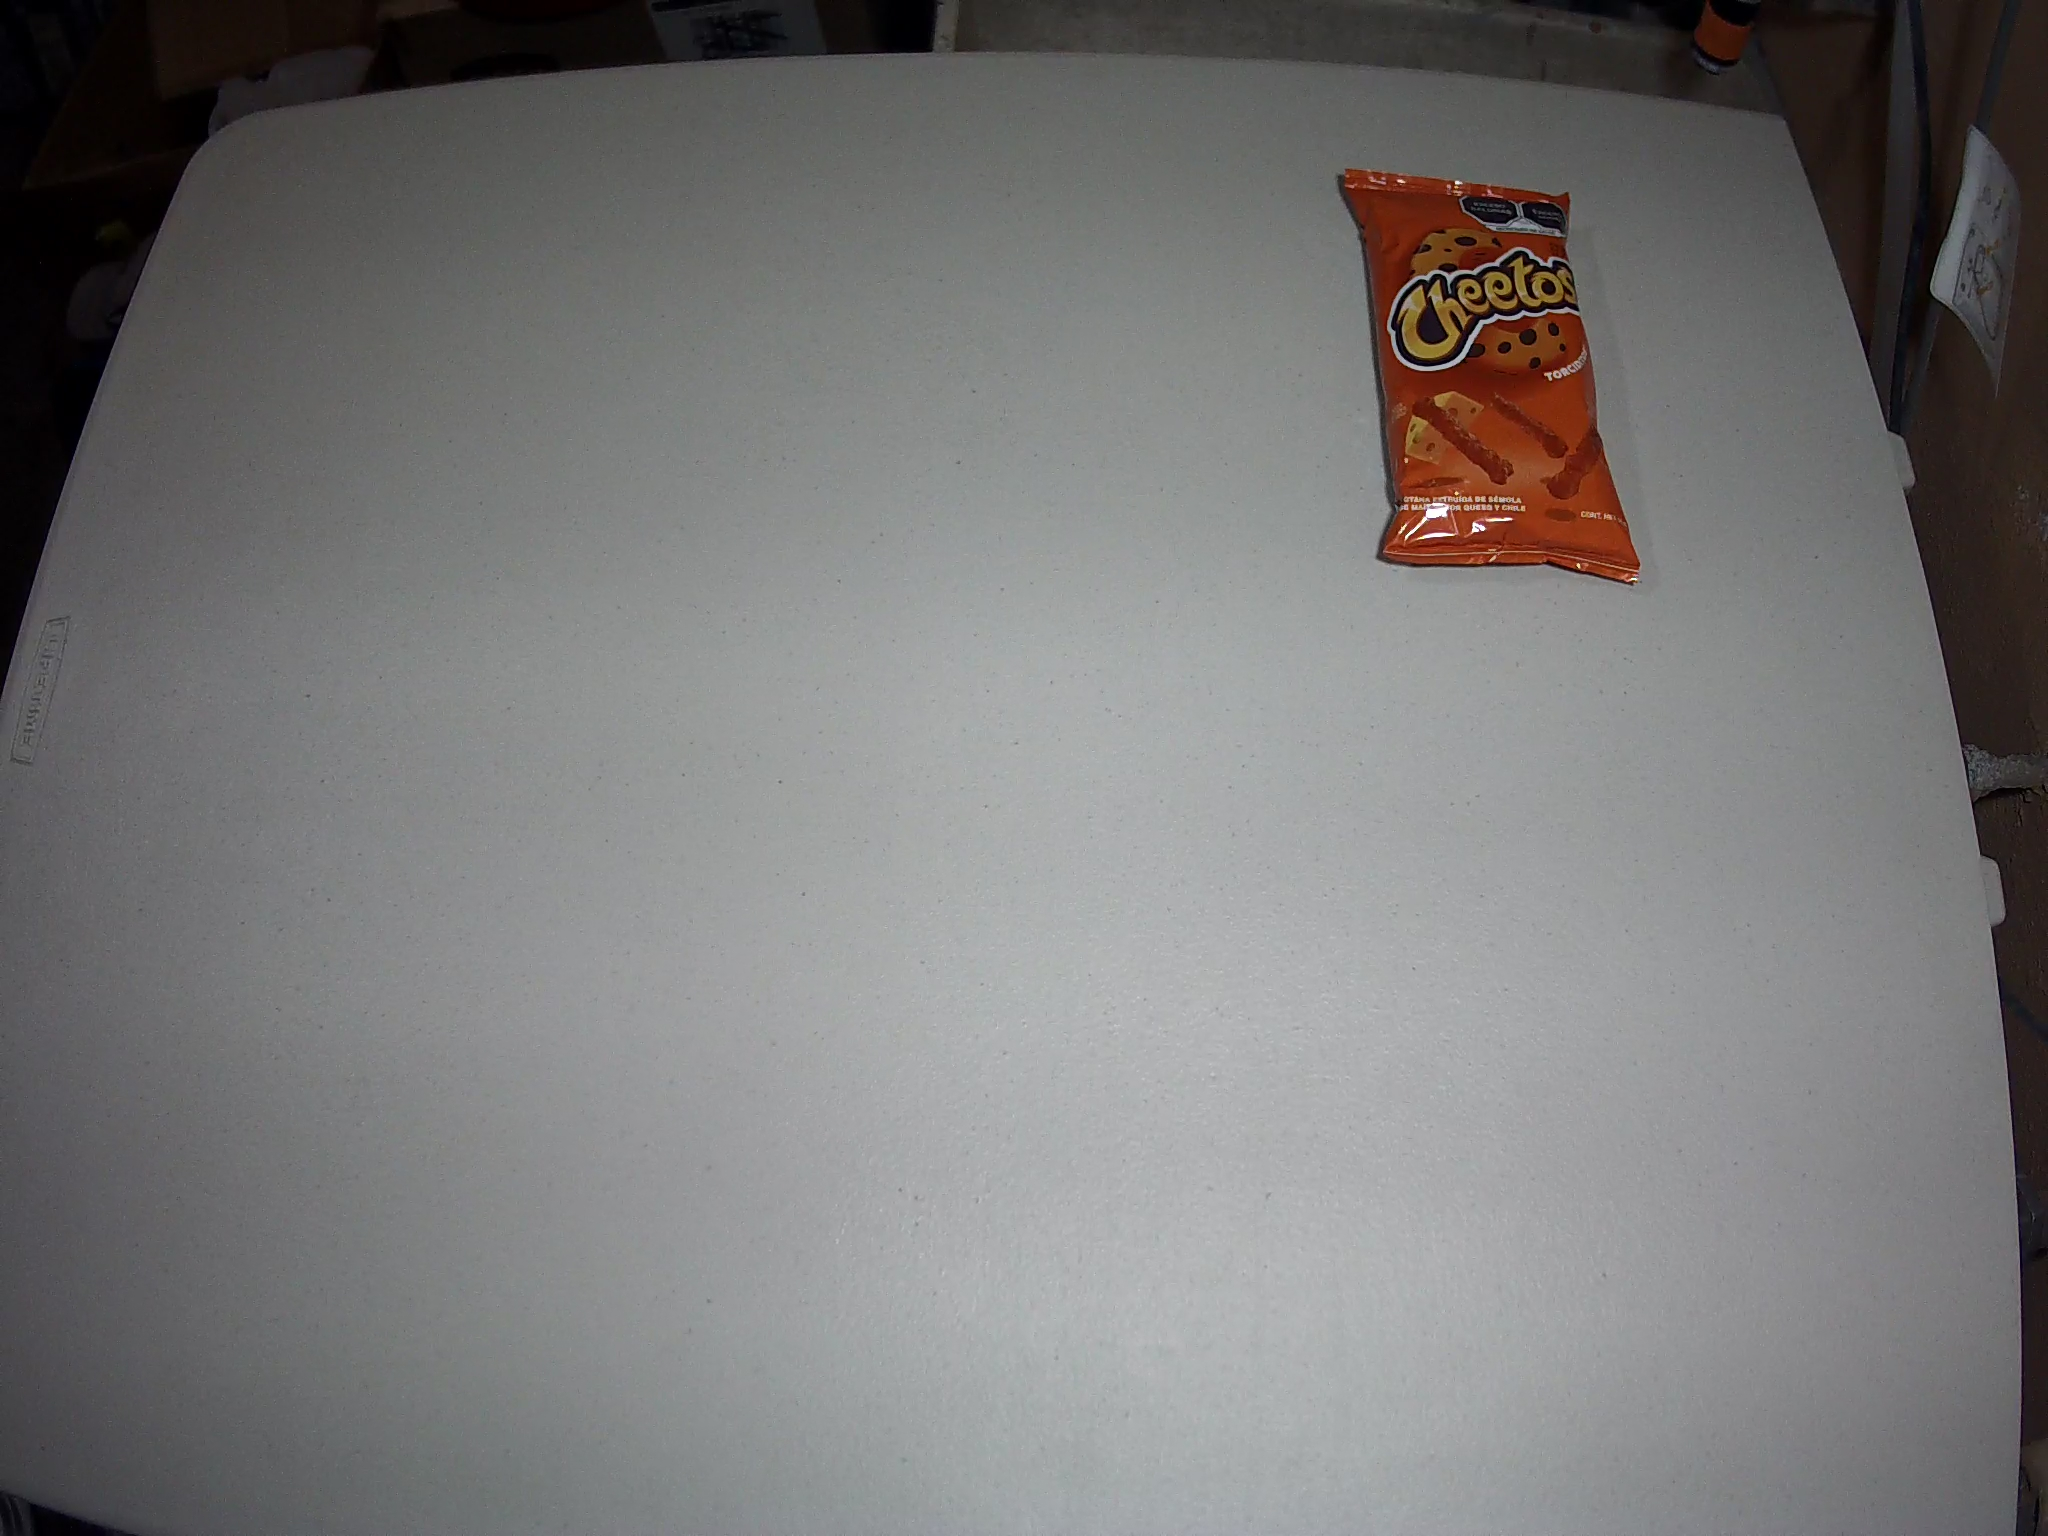CheetosTorciditos_55_F: (1335, 169, 1643, 587)
